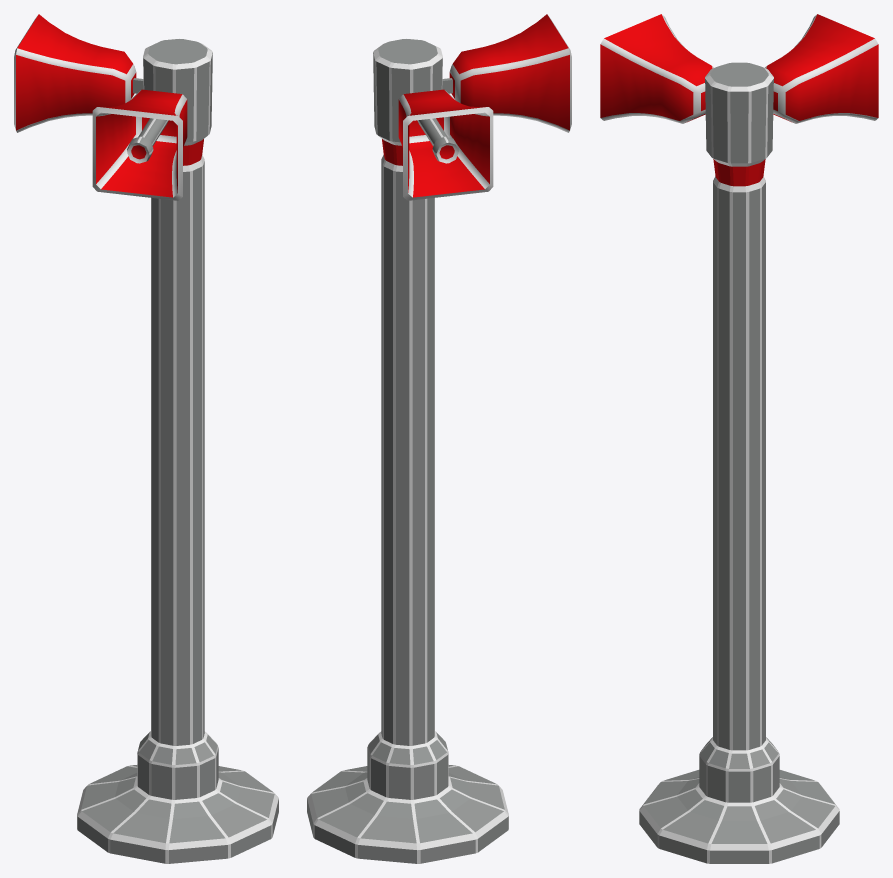
Rendered from speaker.fbx.
3 renders of one model, left to right at view 1: azimuth 30°, elevation 25°; view 2: azimuth 150°, elevation 25°; view 3: azimuth 270°, elevation 25°, orthographic. The views are drawn at different scales.
Parts seen in each view (by area): view 1: Pole, Speaker.001; view 2: Pole, Speaker.001; view 3: Pole, Speaker.001.
Part boxes in pixels (x1=…): Pole: x1=77, y1=39, x2=278, y2=863; Speaker.001: x1=14, y1=14, x2=187, y2=200; Pole: x1=307, y1=39, x2=508, y2=863; Speaker.001: x1=398, y1=14, x2=571, y2=200; Pole: x1=639, y1=62, x2=839, y2=863; Speaker.001: x1=600, y1=14, x2=878, y2=123.
Size of the model in its own units: 127 by 448 by 150.
